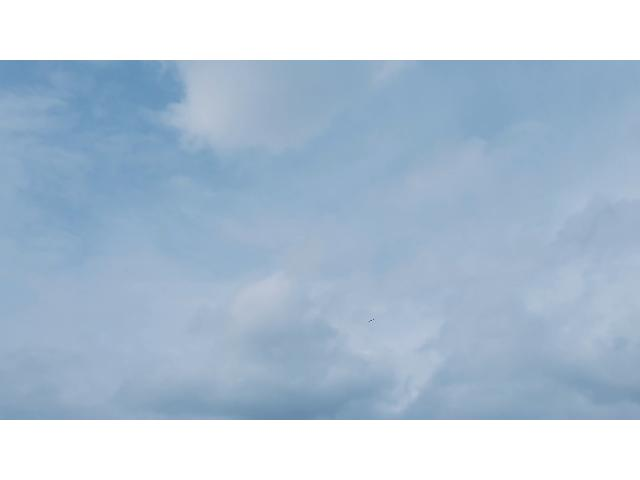Anti-Drone: (365, 318, 375, 324)
